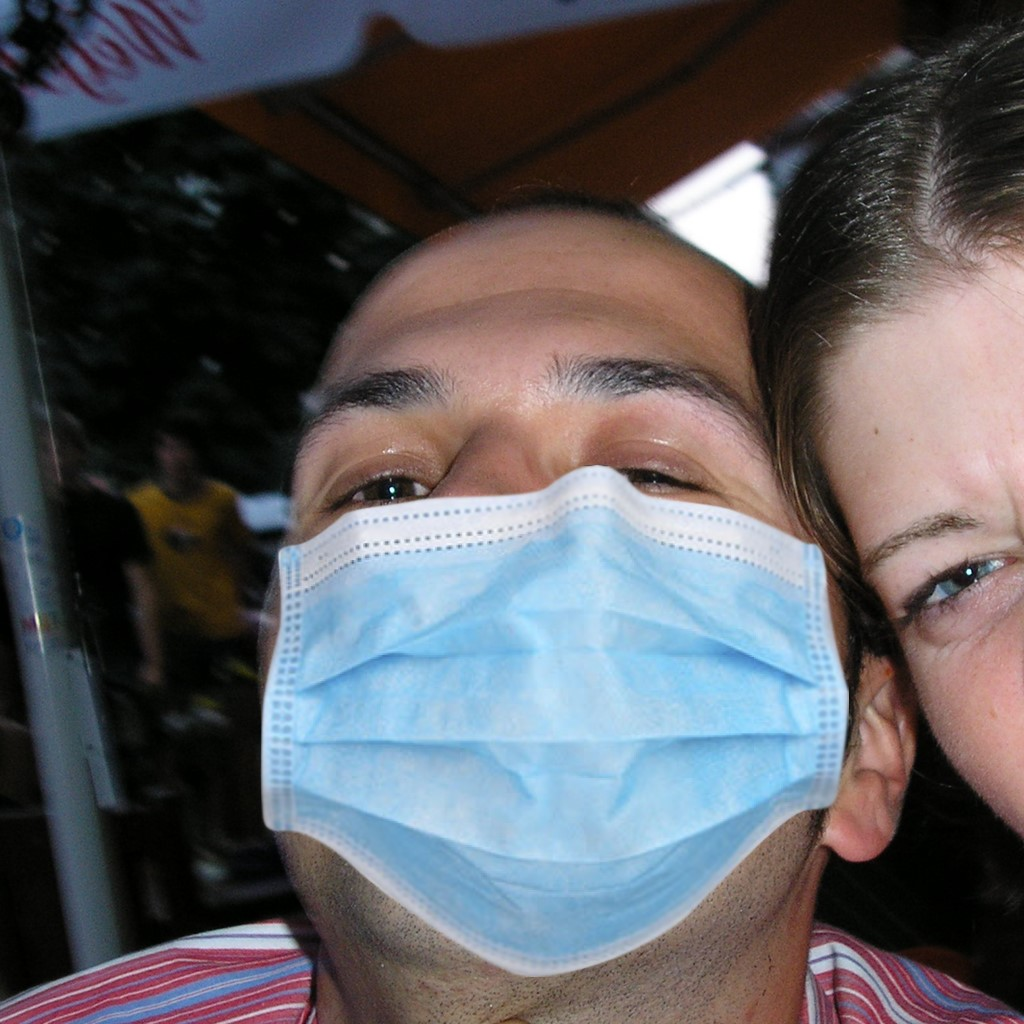con_mascara: (297, 223, 862, 973)
